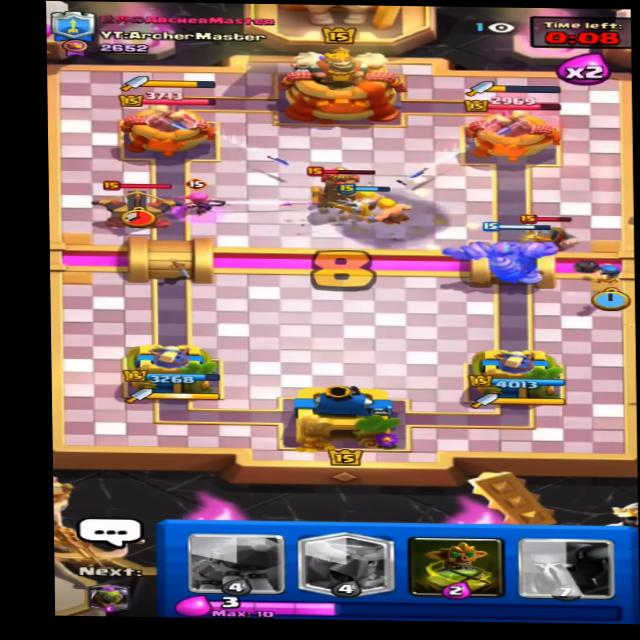Evoarchers: (179, 176, 229, 212)
Knight: (520, 213, 587, 250)
Tesla: (298, 162, 379, 214)
Xbow: (92, 176, 187, 234)
